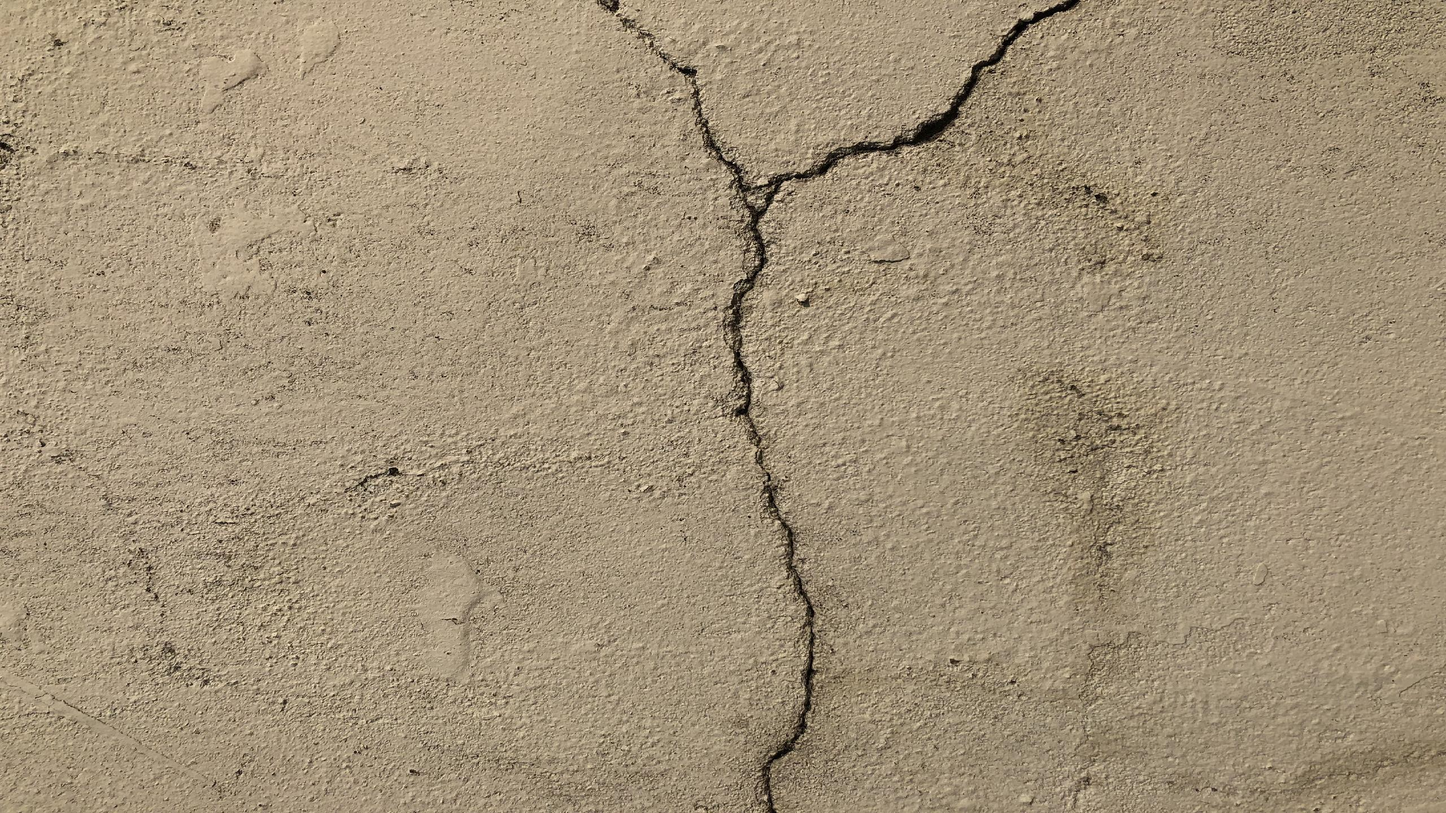crack: (607, 0, 1080, 809)
